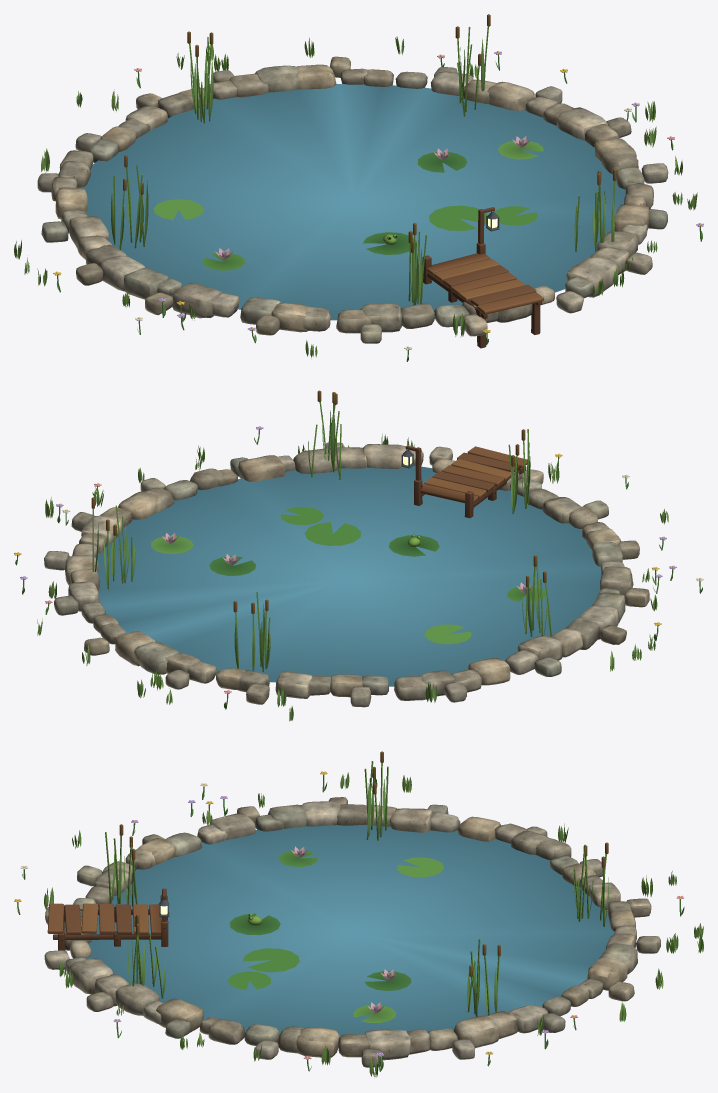
File: pond.gltf
The picture shows the model from 3 angles, top to bottom: view 1: azimuth 30°, elevation 25°; view 2: azimuth 150°, elevation 25°; view 3: azimuth 270°, elevation 25°; orthographic projection. The views are drawn at different scales.
Parts seen in each view (by area): view 1: Water, Stones, Pond; view 2: Water, Stones, Pond; view 3: Water, Stones, Pond.
Part boxes in pixels (x1,y1,x2,y2): Water: (77,84,625,320); Stones: (37,56,668,343); Pond: (14,14,703,361); Water: (97,465,601,686); Stones: (44,442,649,707); Pond: (14,390,703,721); Water: (84,824,614,1036); Stones: (44,797,660,1067); Pond: (14,751,703,1077).
Bounding box in the file's own units: 11.83 × 2.22 × 11.8.
Materials: 29 (1 with a texture image).
